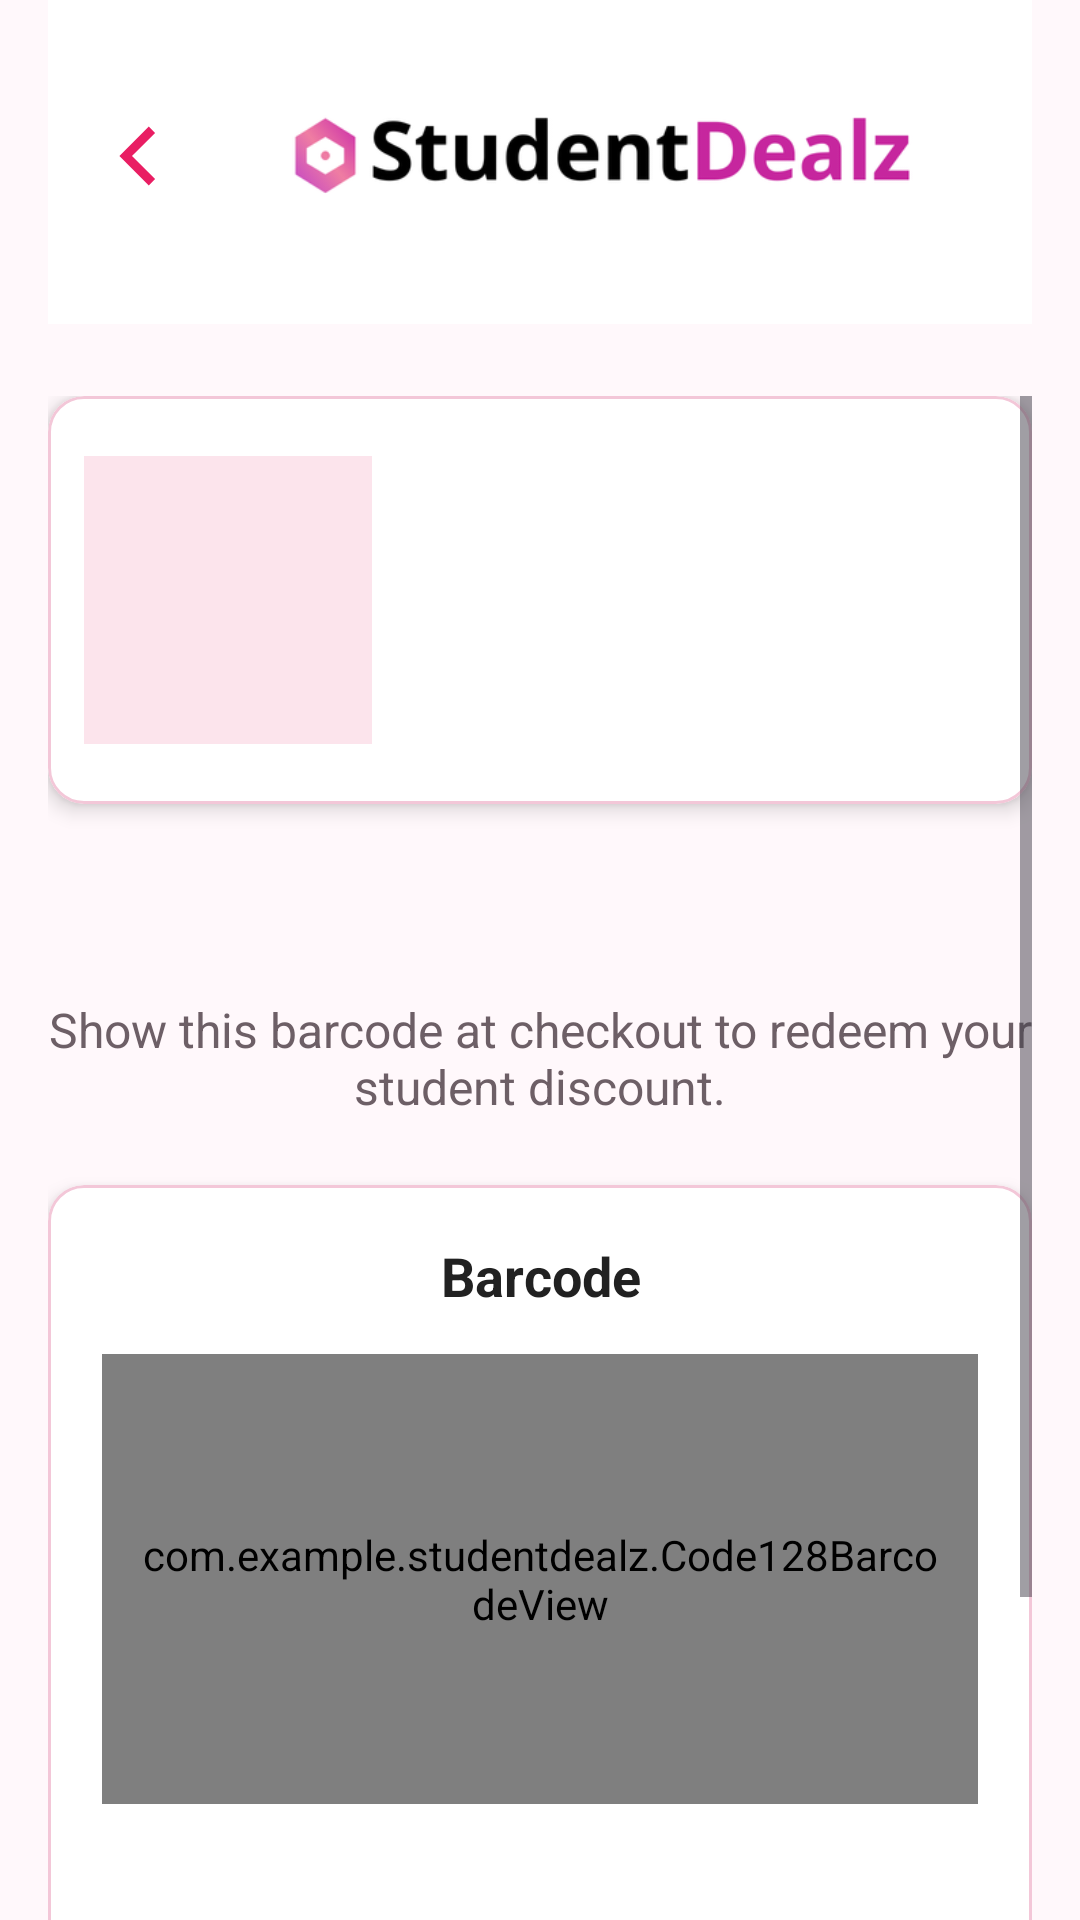

Named icons in this screenshot (1080px x 1920px) and their bounding boxes, (x1, y1, x2, y2):
Back: (119, 126, 155, 186)
